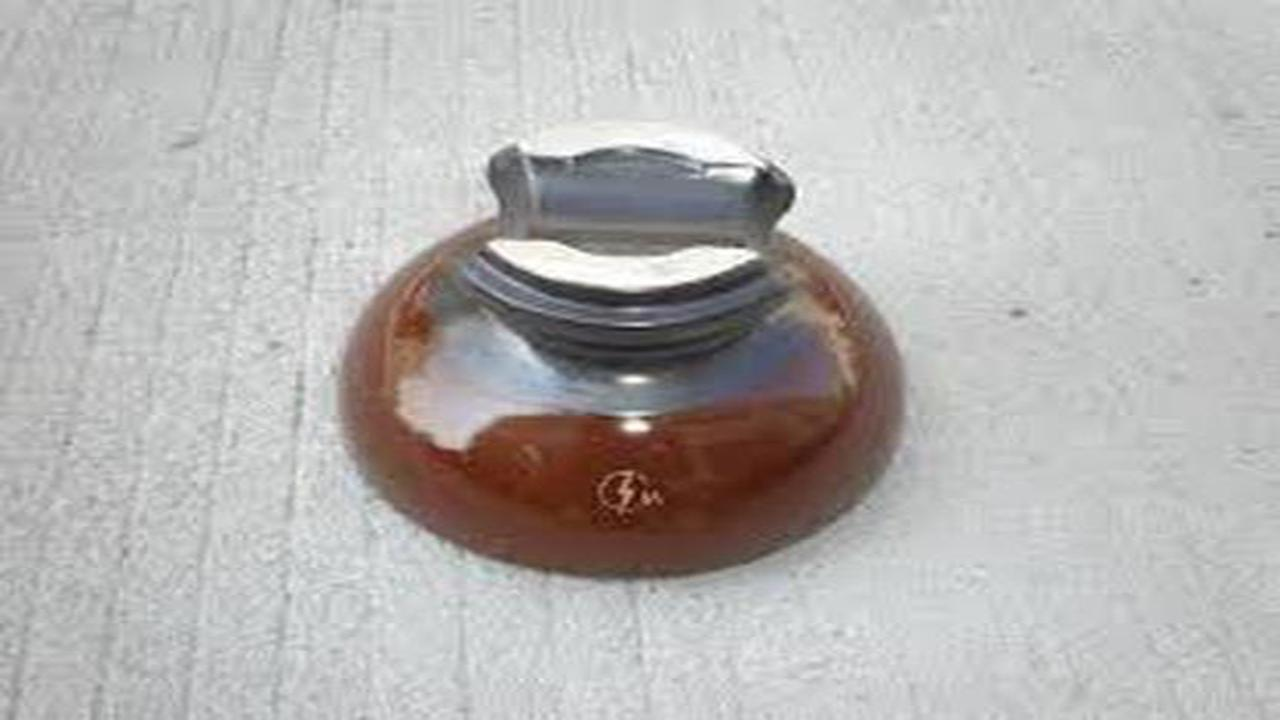insulator_pin: (327, 120, 921, 592)
